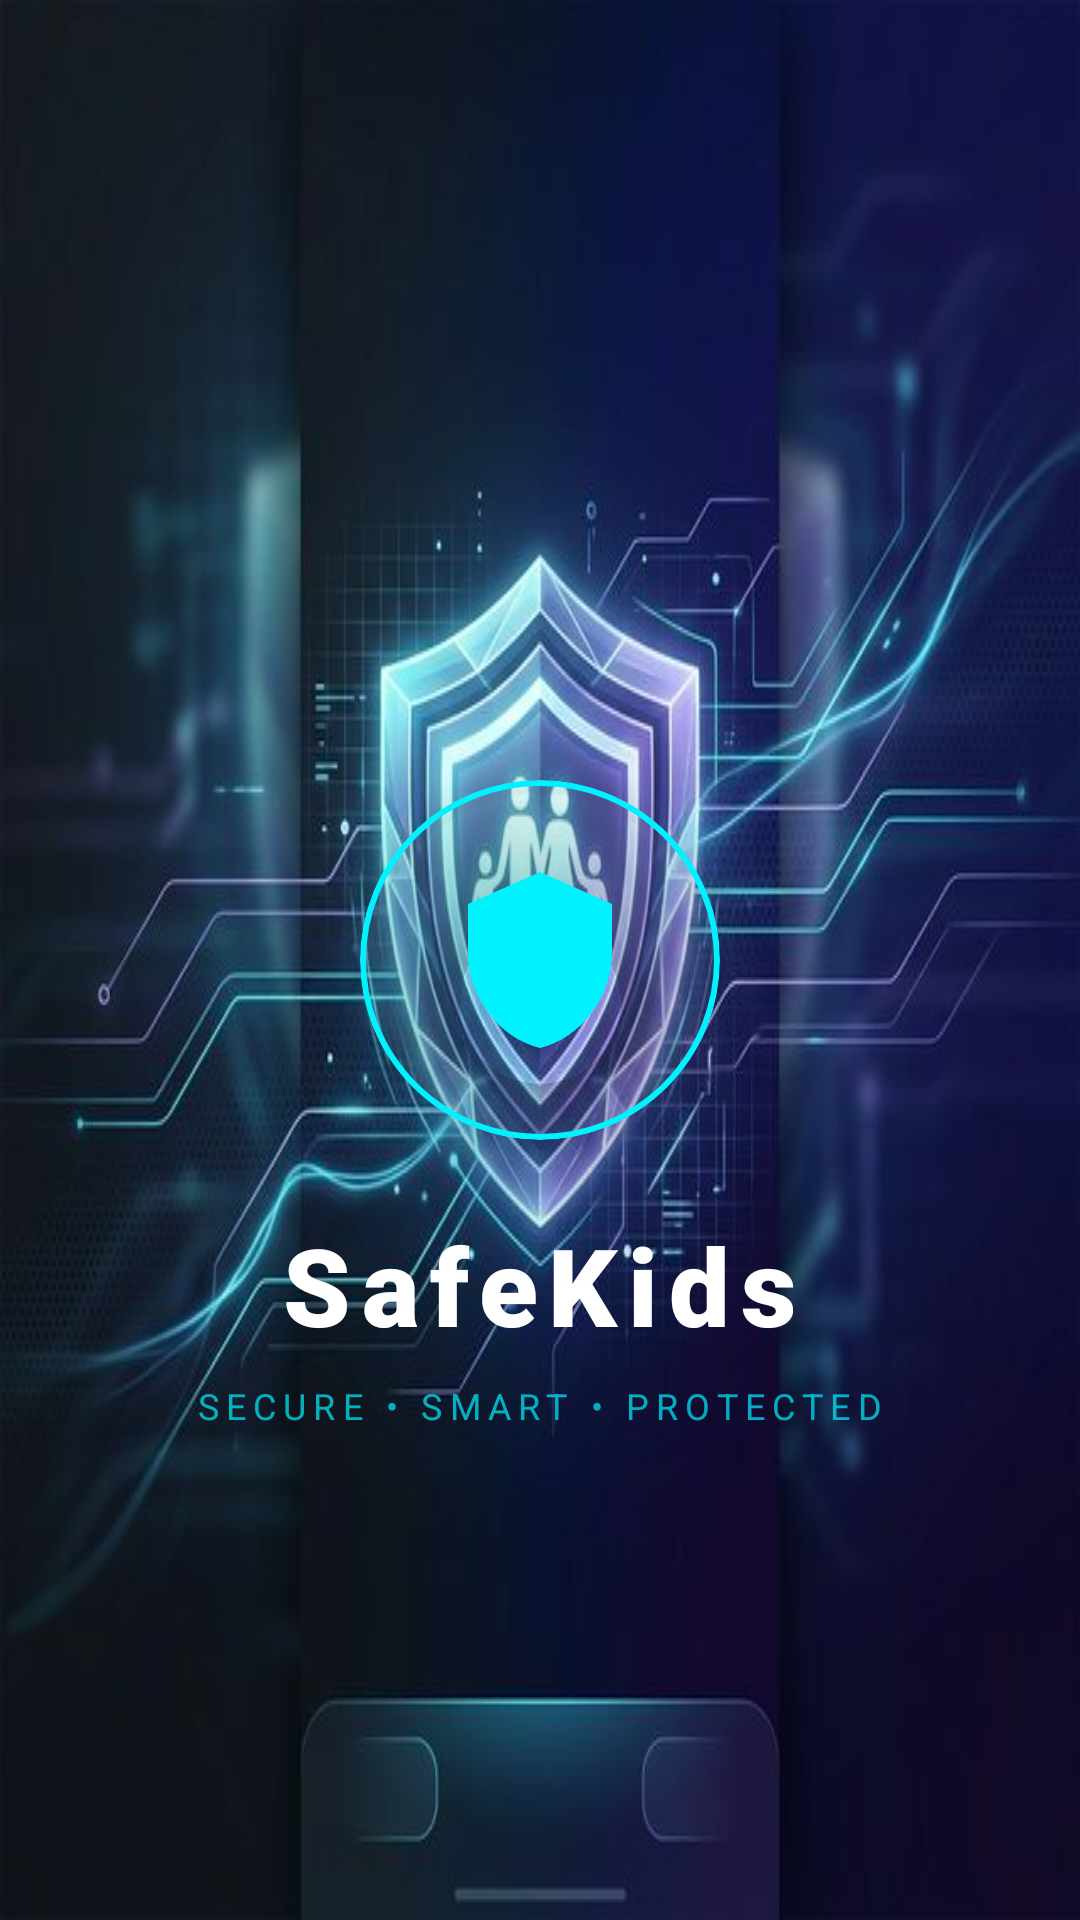

Where to tap for icons on this 1080x1920 app screen, as point (x, y):
security shield: point (540, 960)
